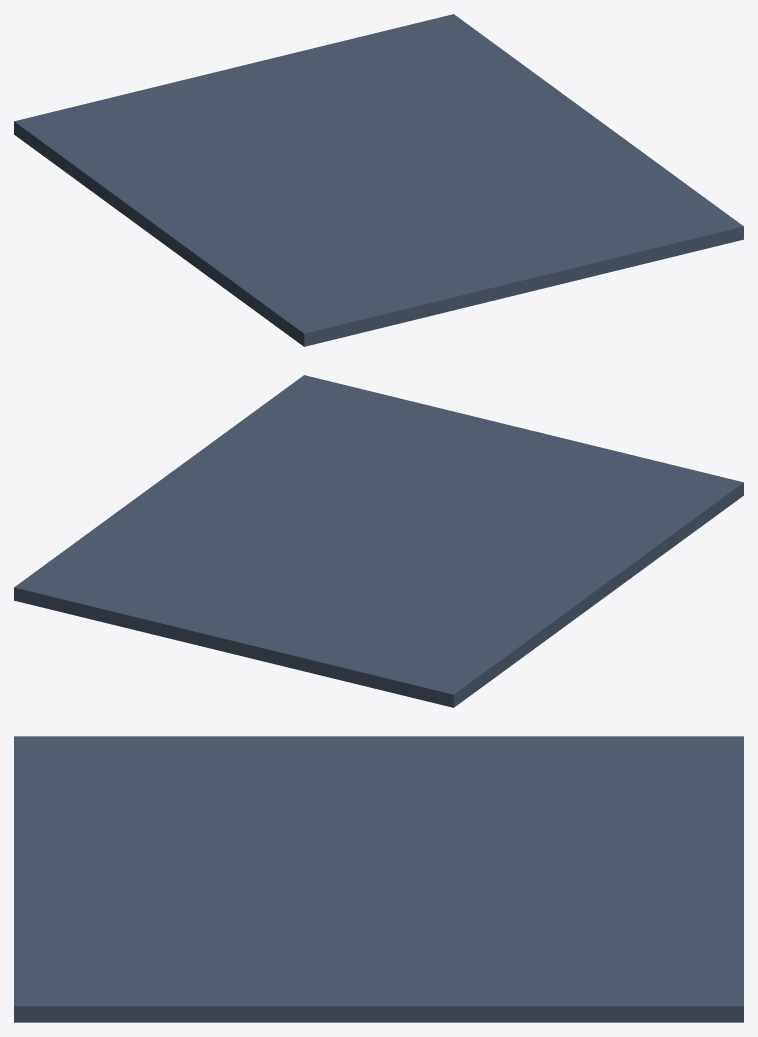
File: floor_001_f_beb6a257f7.obj
3 views of the same model, one above another, from view 1: azimuth 30°, elevation 25°; view 2: azimuth 150°, elevation 25°; view 3: azimuth 270°, elevation 25° (orthographic). The views are drawn at different scales.
Visible parts, largest first — view 1: Floor_001_f_beb6a257f7; view 2: Floor_001_f_beb6a257f7; view 3: Floor_001_f_beb6a257f7.
Part boxes in pixels (<box>): Floor_001_f_beb6a257f7: <box>14,14,743,346</box>; Floor_001_f_beb6a257f7: <box>14,375,743,707</box>; Floor_001_f_beb6a257f7: <box>14,736,743,1022</box>.
Size of the model in its own units: 7 by 0.2 by 8.
